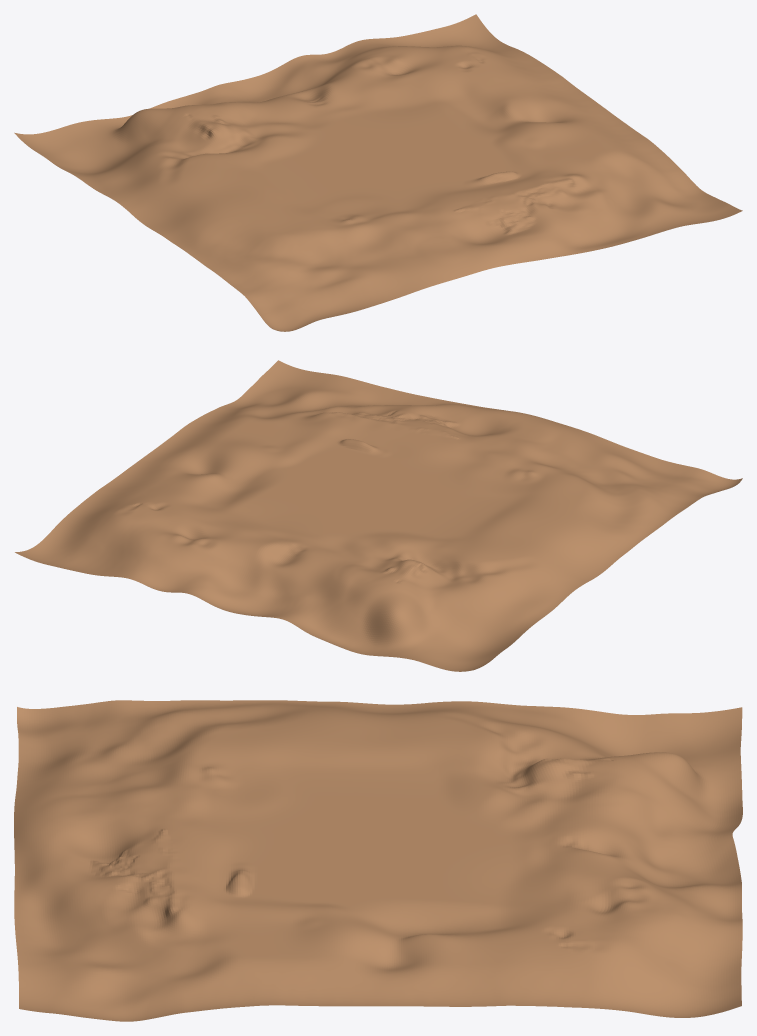
The model's file is SM_Terrain_City.fbx.
3 views of the same model, one above another, from view 1: azimuth 30°, elevation 25°; view 2: azimuth 150°, elevation 25°; view 3: azimuth 270°, elevation 25° (orthographic). The views are drawn at different scales.
Visible parts, largest first — view 1: SM_Terain_City; view 2: SM_Terain_City; view 3: SM_Terain_City.
Boxes of the visible parts, x1,y1,x2,y2 form: SM_Terain_City: [14, 14, 742, 331]; SM_Terain_City: [15, 360, 742, 671]; SM_Terain_City: [14, 700, 742, 1021].
Size of the model in its own units: 659 by 56.77 by 655.
